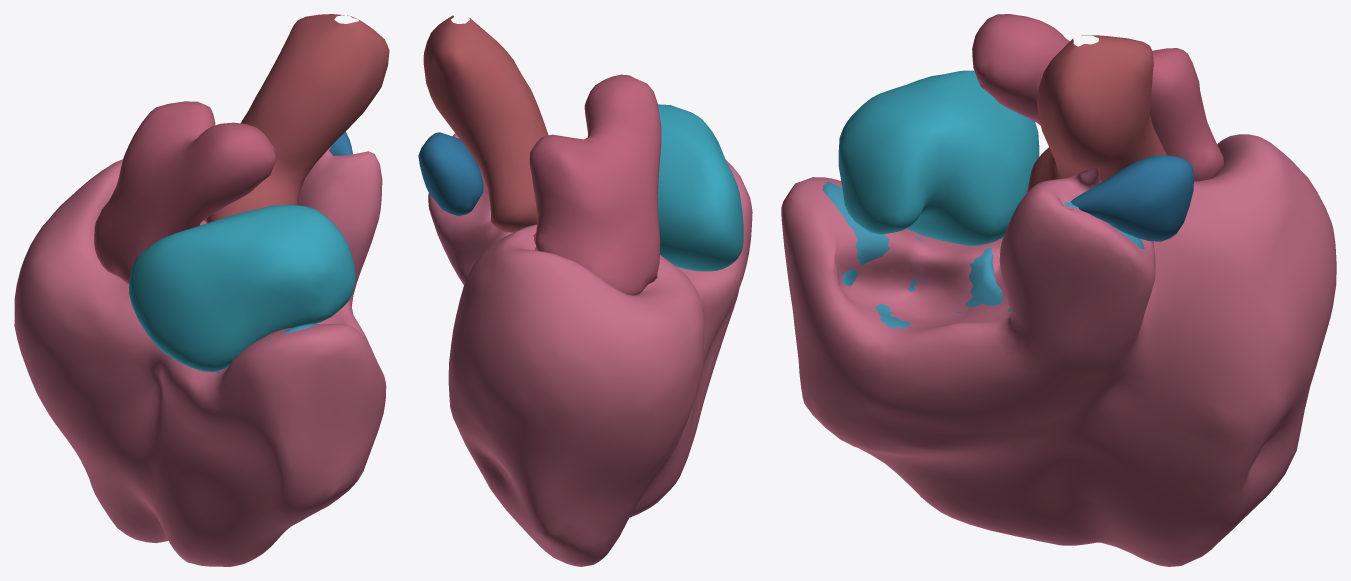
The model's file is frame_2.glb.
The picture shows the model from 3 angles, left to right: view 1: azimuth 30°, elevation 25°; view 2: azimuth 150°, elevation 25°; view 3: azimuth 270°, elevation 25°; orthographic projection. The views are drawn at different scales.
Parts seen in each view (by area): view 1: Renderer Node; view 2: Renderer Node; view 3: Renderer Node.
Part boxes in pixels (x1,y1,x2,y2): Renderer Node: (14, 14, 389, 566); Renderer Node: (418, 15, 752, 566); Renderer Node: (781, 14, 1336, 566).
Bounding box in the file's own units: 103 × 160 × 130.
